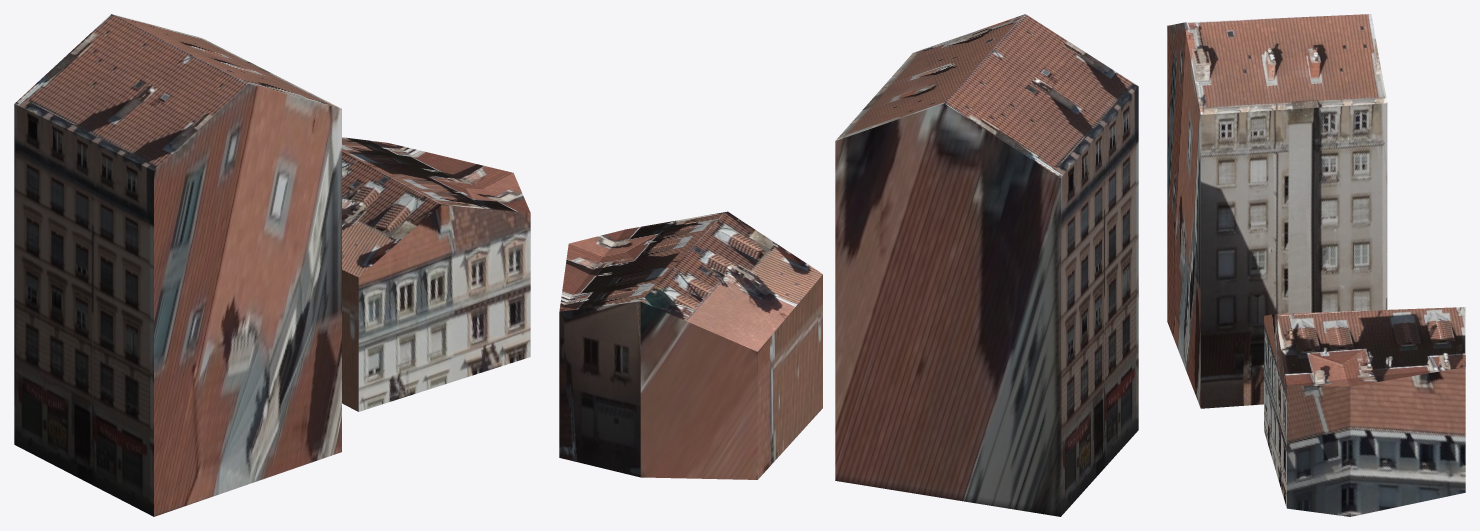
3 views of the same model, side by side, from view 1: azimuth 30°, elevation 25°; view 2: azimuth 150°, elevation 25°; view 3: azimuth 270°, elevation 25° (orthographic). The views are drawn at different scales.
Visible parts, largest first — view 1: Z_UP; view 2: Z_UP; view 3: Z_UP.
Boxes of the visible parts, <box> form: Z_UP: <box>14,14,530,516</box>; Z_UP: <box>559,14,1138,516</box>; Z_UP: <box>1167,14,1465,516</box>.
Bounding box in the file's own units: 35.32 × 27.19 × 21.42.
2 materials, 1 textured.
